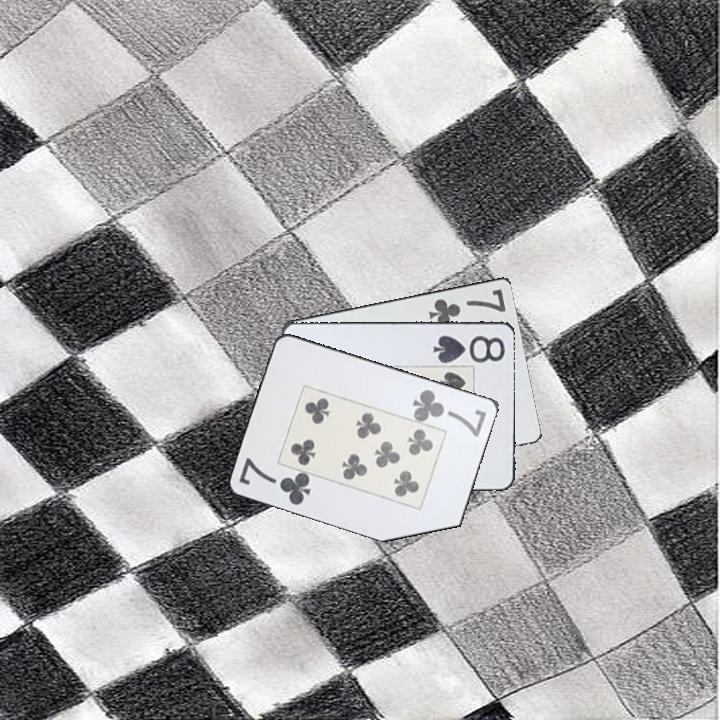7c: (409, 386, 490, 439), (235, 454, 314, 508), (425, 285, 509, 329)
8s: (430, 331, 508, 363)
